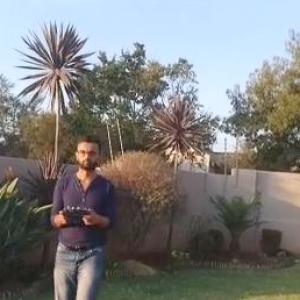follow: (44, 130, 119, 299)
